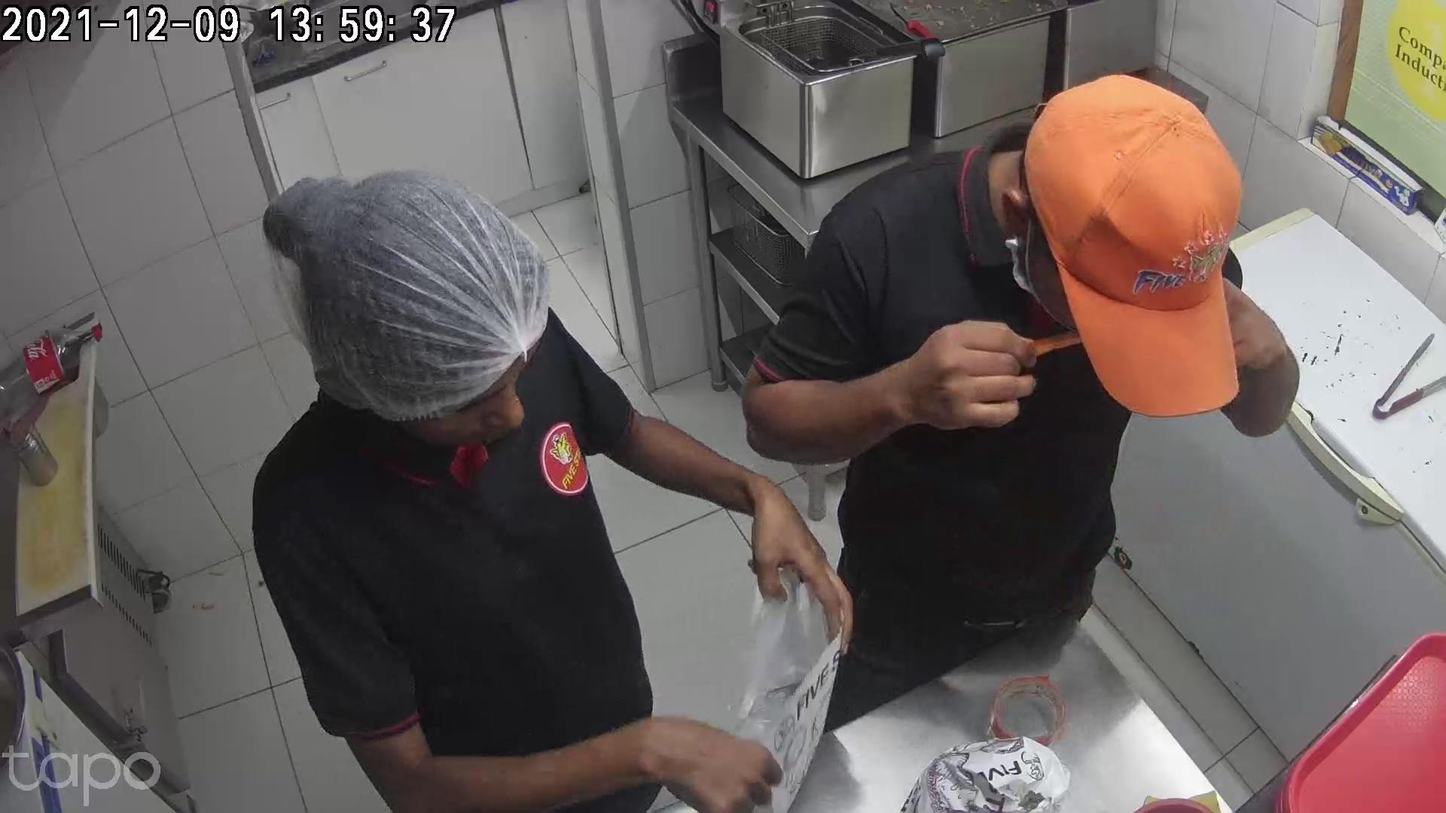no_gloves: (871, 327, 1030, 438)
